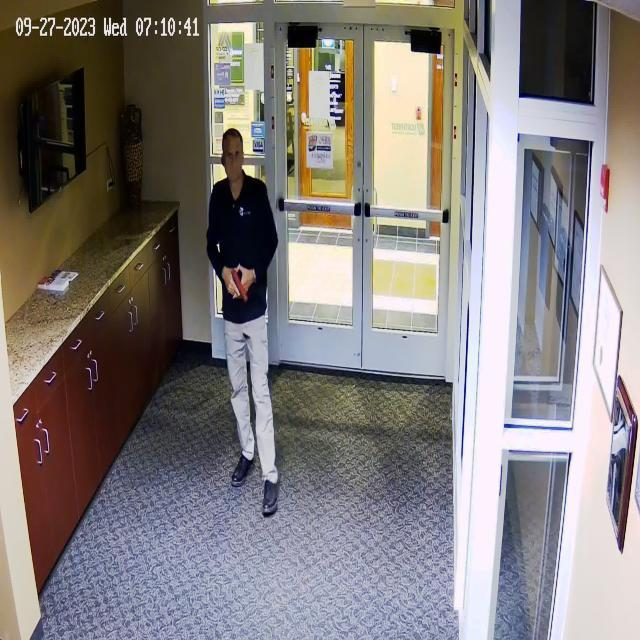Gun: (220, 264, 264, 314)
